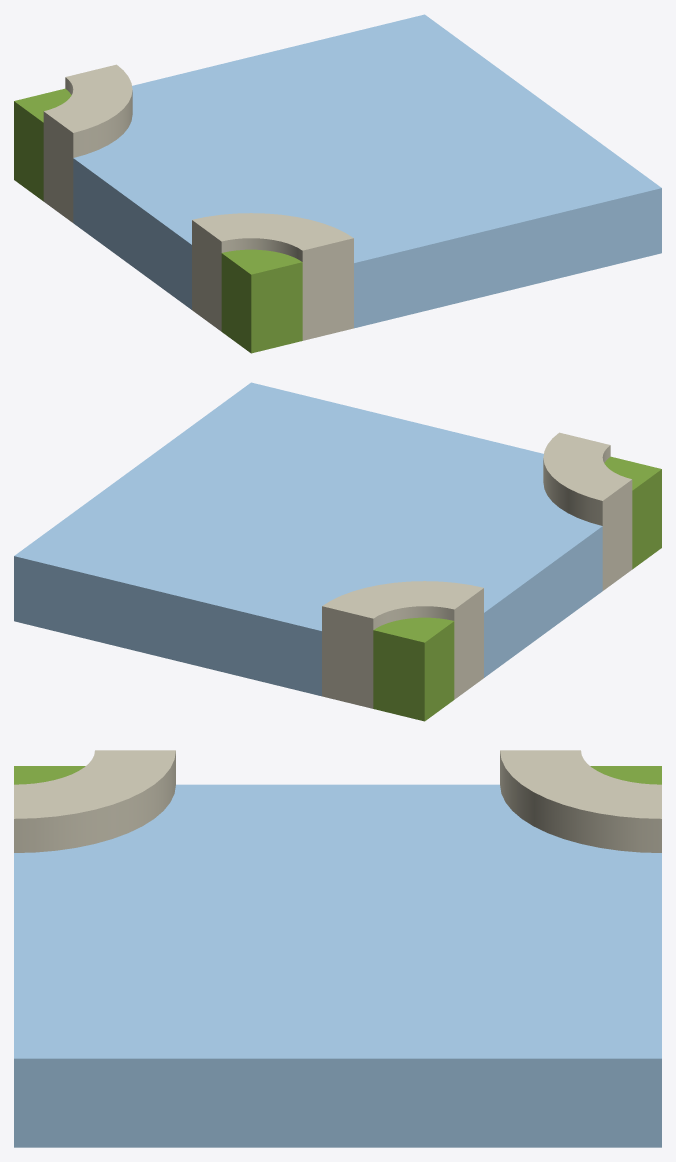
File: roadTile_265.fbx
The picture shows the model from 3 angles, top to bottom: view 1: azimuth 30°, elevation 25°; view 2: azimuth 150°, elevation 25°; view 3: azimuth 270°, elevation 25°; orthographic projection. The views are drawn at different scales.
Visible parts, largest first — view 1: roadTile_265; view 2: roadTile_265; view 3: roadTile_265.
Boxes of the visible parts, x1,y1,x2,y2 form: roadTile_265: (14,14,661,353); roadTile_265: (14,382,661,721); roadTile_265: (14,750,661,1147).
Size of the model in its own units: 118 by 24.8 by 118.
